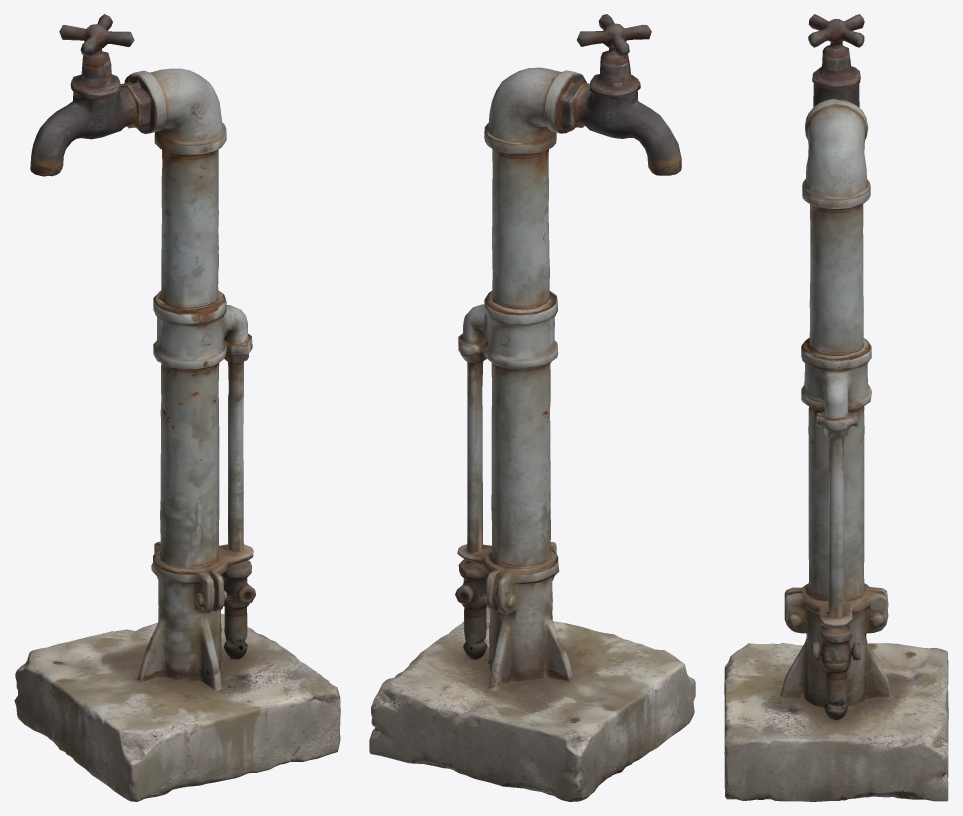
File: standpipe.glb
3 views of the same model, side by side, from view 1: azimuth 30°, elevation 25°; view 2: azimuth 150°, elevation 25°; view 3: azimuth 270°, elevation 25° (orthographic). The views are drawn at different scales.
Parts seen in each view (by area): view 1: tripo_node_7c7dfcbd-339e-43e4-ba6e-5d15eba4dcd4; view 2: tripo_node_7c7dfcbd-339e-43e4-ba6e-5d15eba4dcd4; view 3: tripo_node_7c7dfcbd-339e-43e4-ba6e-5d15eba4dcd4.
Part boxes in pixels (x1,y1,x2,y2): tripo_node_7c7dfcbd-339e-43e4-ba6e-5d15eba4dcd4: (14, 14, 340, 801); tripo_node_7c7dfcbd-339e-43e4-ba6e-5d15eba4dcd4: (369, 14, 695, 801); tripo_node_7c7dfcbd-339e-43e4-ba6e-5d15eba4dcd4: (724, 14, 948, 801).
Bounding box in the file's own units: 0.3599 × 1 × 0.2915.
1 material, 1 textured.
